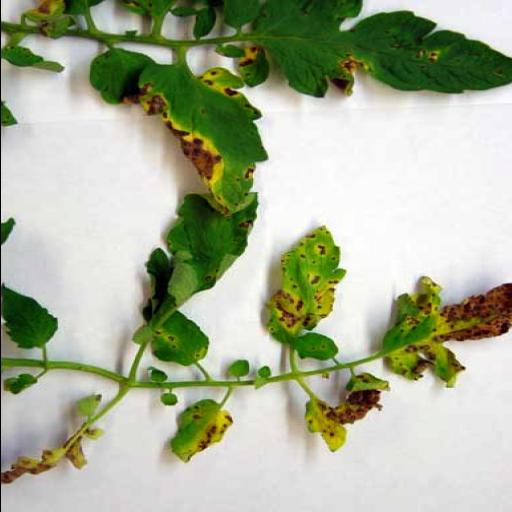disease_tomato: (238, 0, 512, 100), (132, 60, 272, 214), (376, 269, 510, 386), (142, 191, 263, 319), (259, 225, 347, 343), (164, 398, 236, 464), (146, 302, 208, 364), (299, 397, 356, 457)
